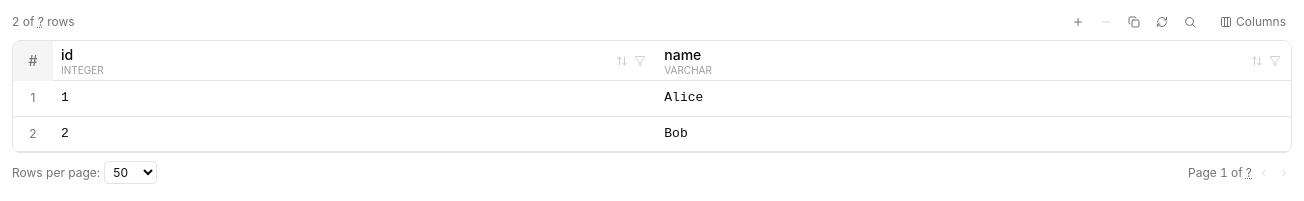
Test case: DataTable › row selection › clicking selected row deselects it
Click the 1st cell titled "Click to select": (33, 99) [13,81,53,116]
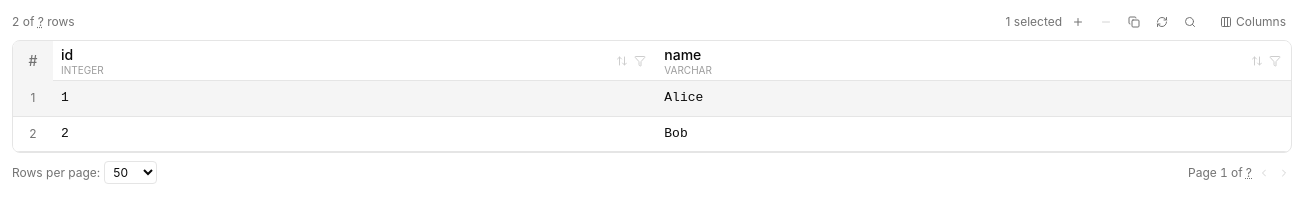
Check: the text "1 selected" is shown, box [1006,14,1062,30]
Click the 1st cell titled "Click to select": (33, 99) [13,81,53,116]
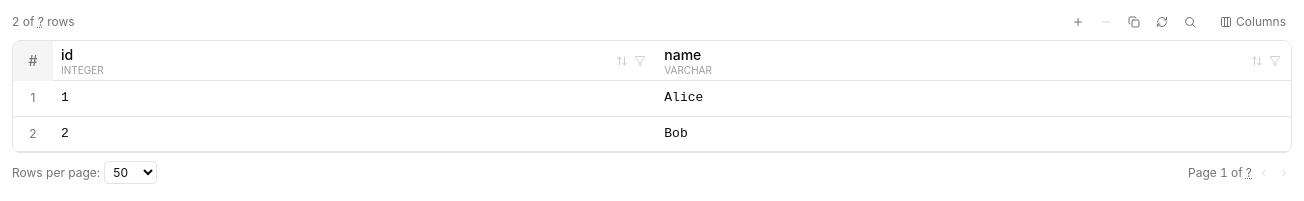
Check: the text "selected" is gone
